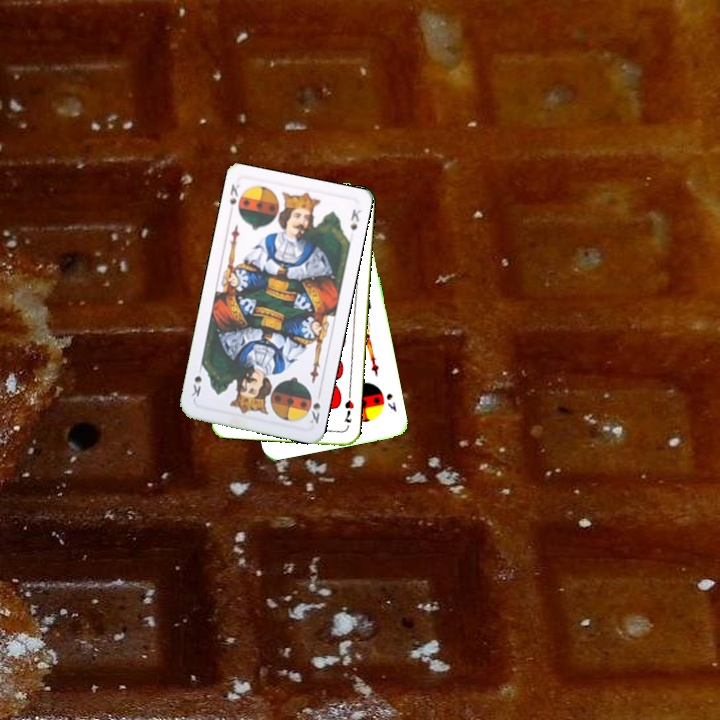H7: (340, 396, 356, 425)
SK: (303, 391, 323, 426), (225, 180, 242, 218), (382, 389, 399, 415)
